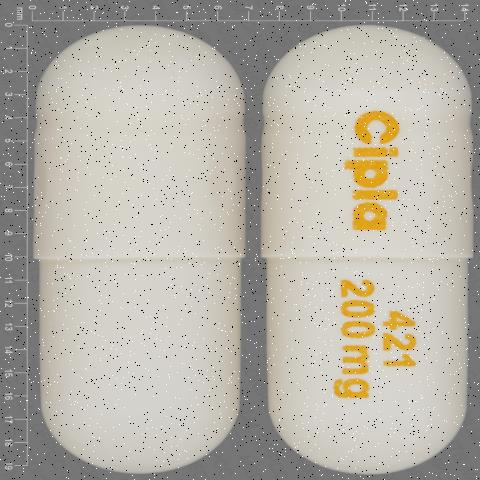Pill: (23, 13, 246, 476)
